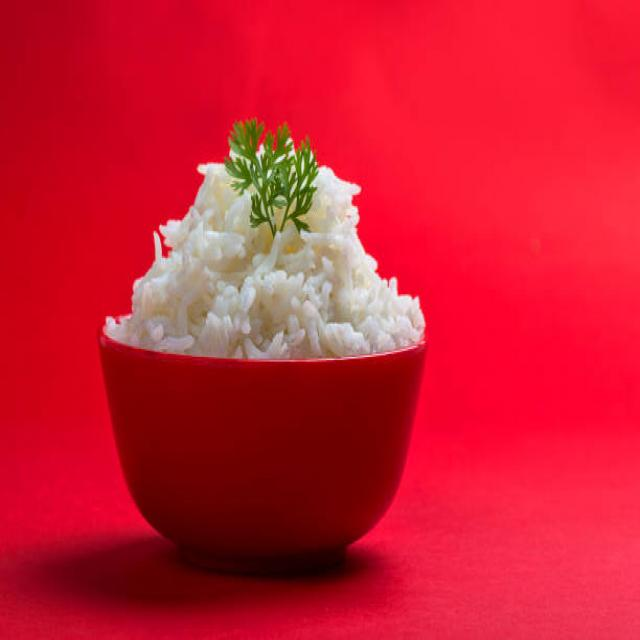rice: (102, 138, 426, 360)
